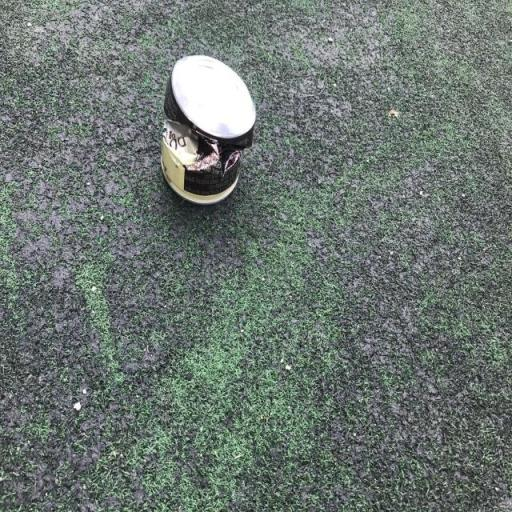metal: (147, 30, 262, 217)
